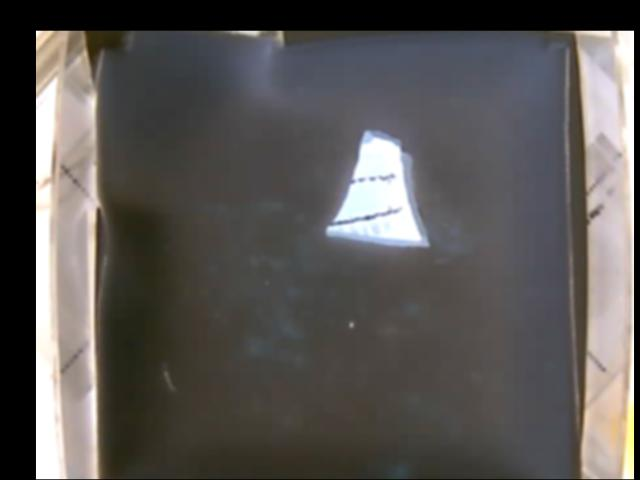China: (327, 130, 429, 250)
